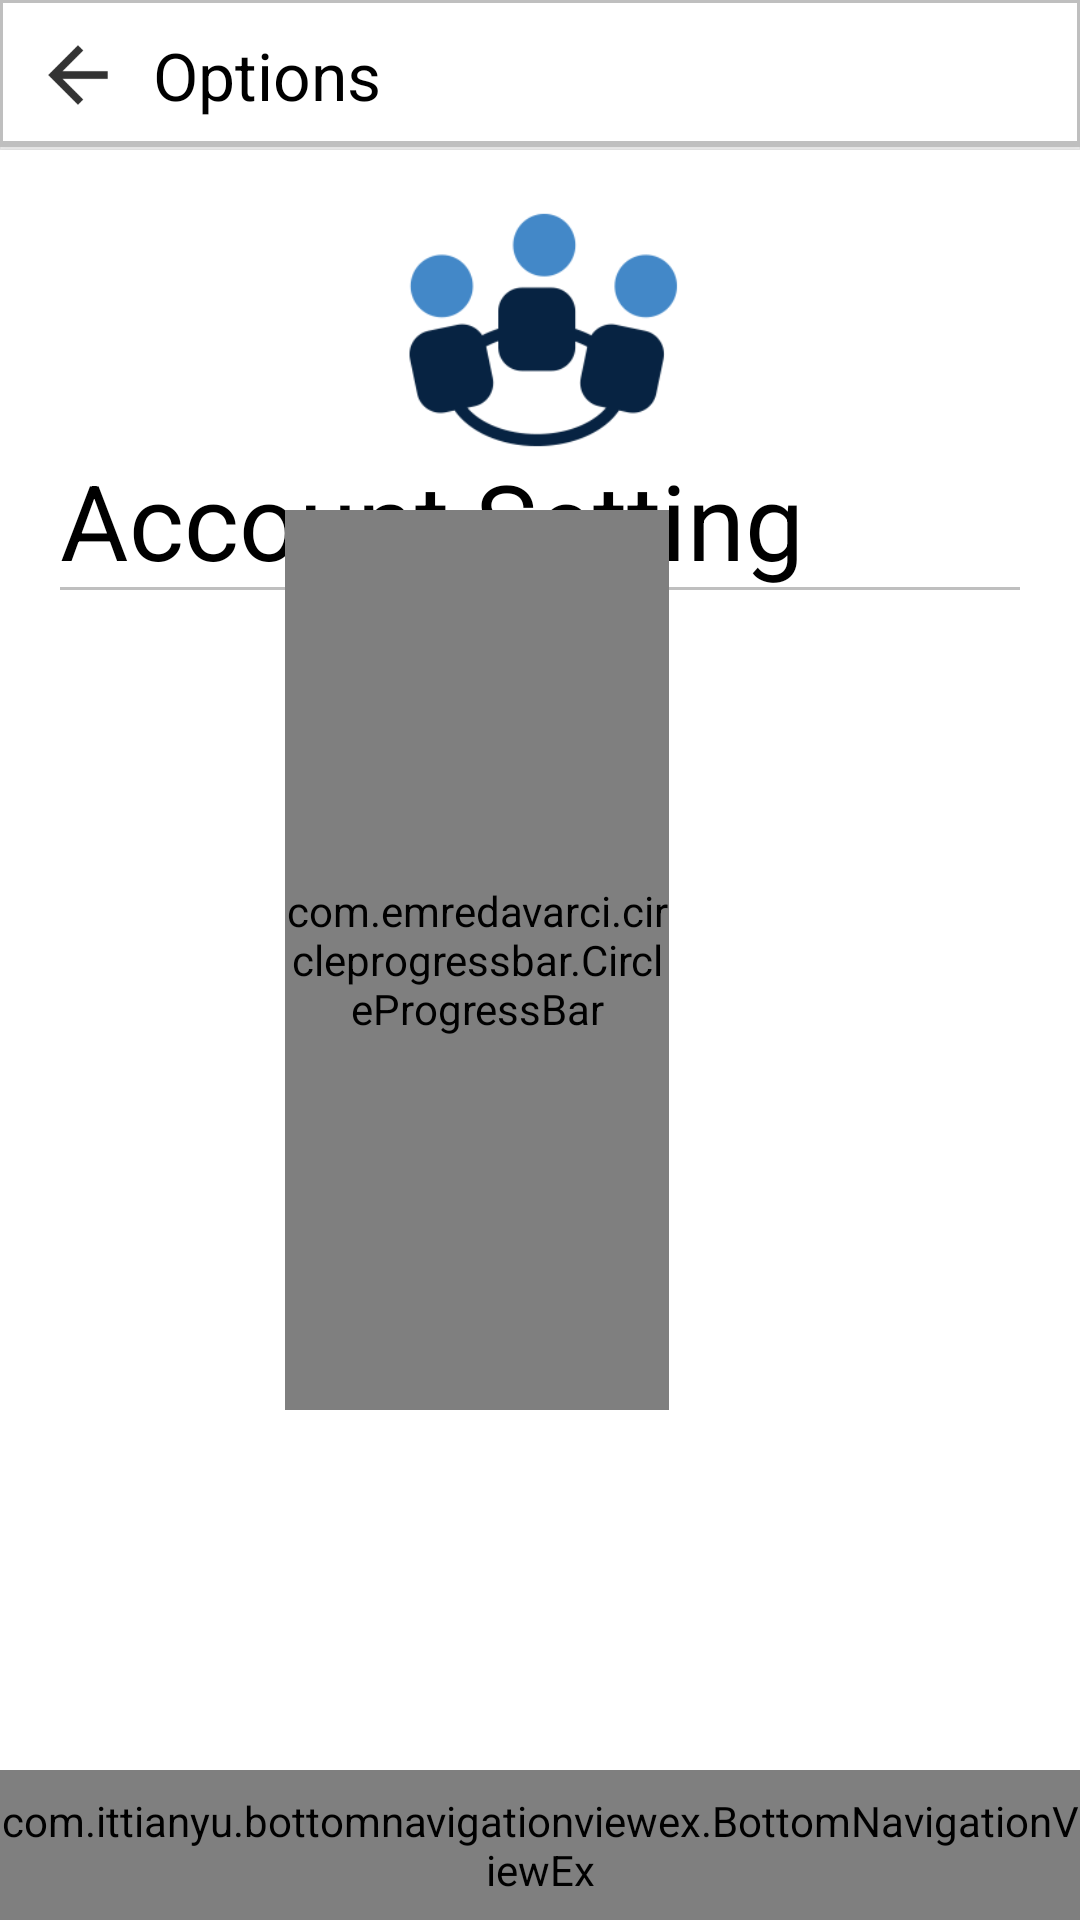

Screen size 1080 × 1920. Icon name, then its box in pixels as (x1, y1, x2, y2):
backarrow: (48, 45, 108, 105)
socialmedia: (409, 213, 677, 447)
